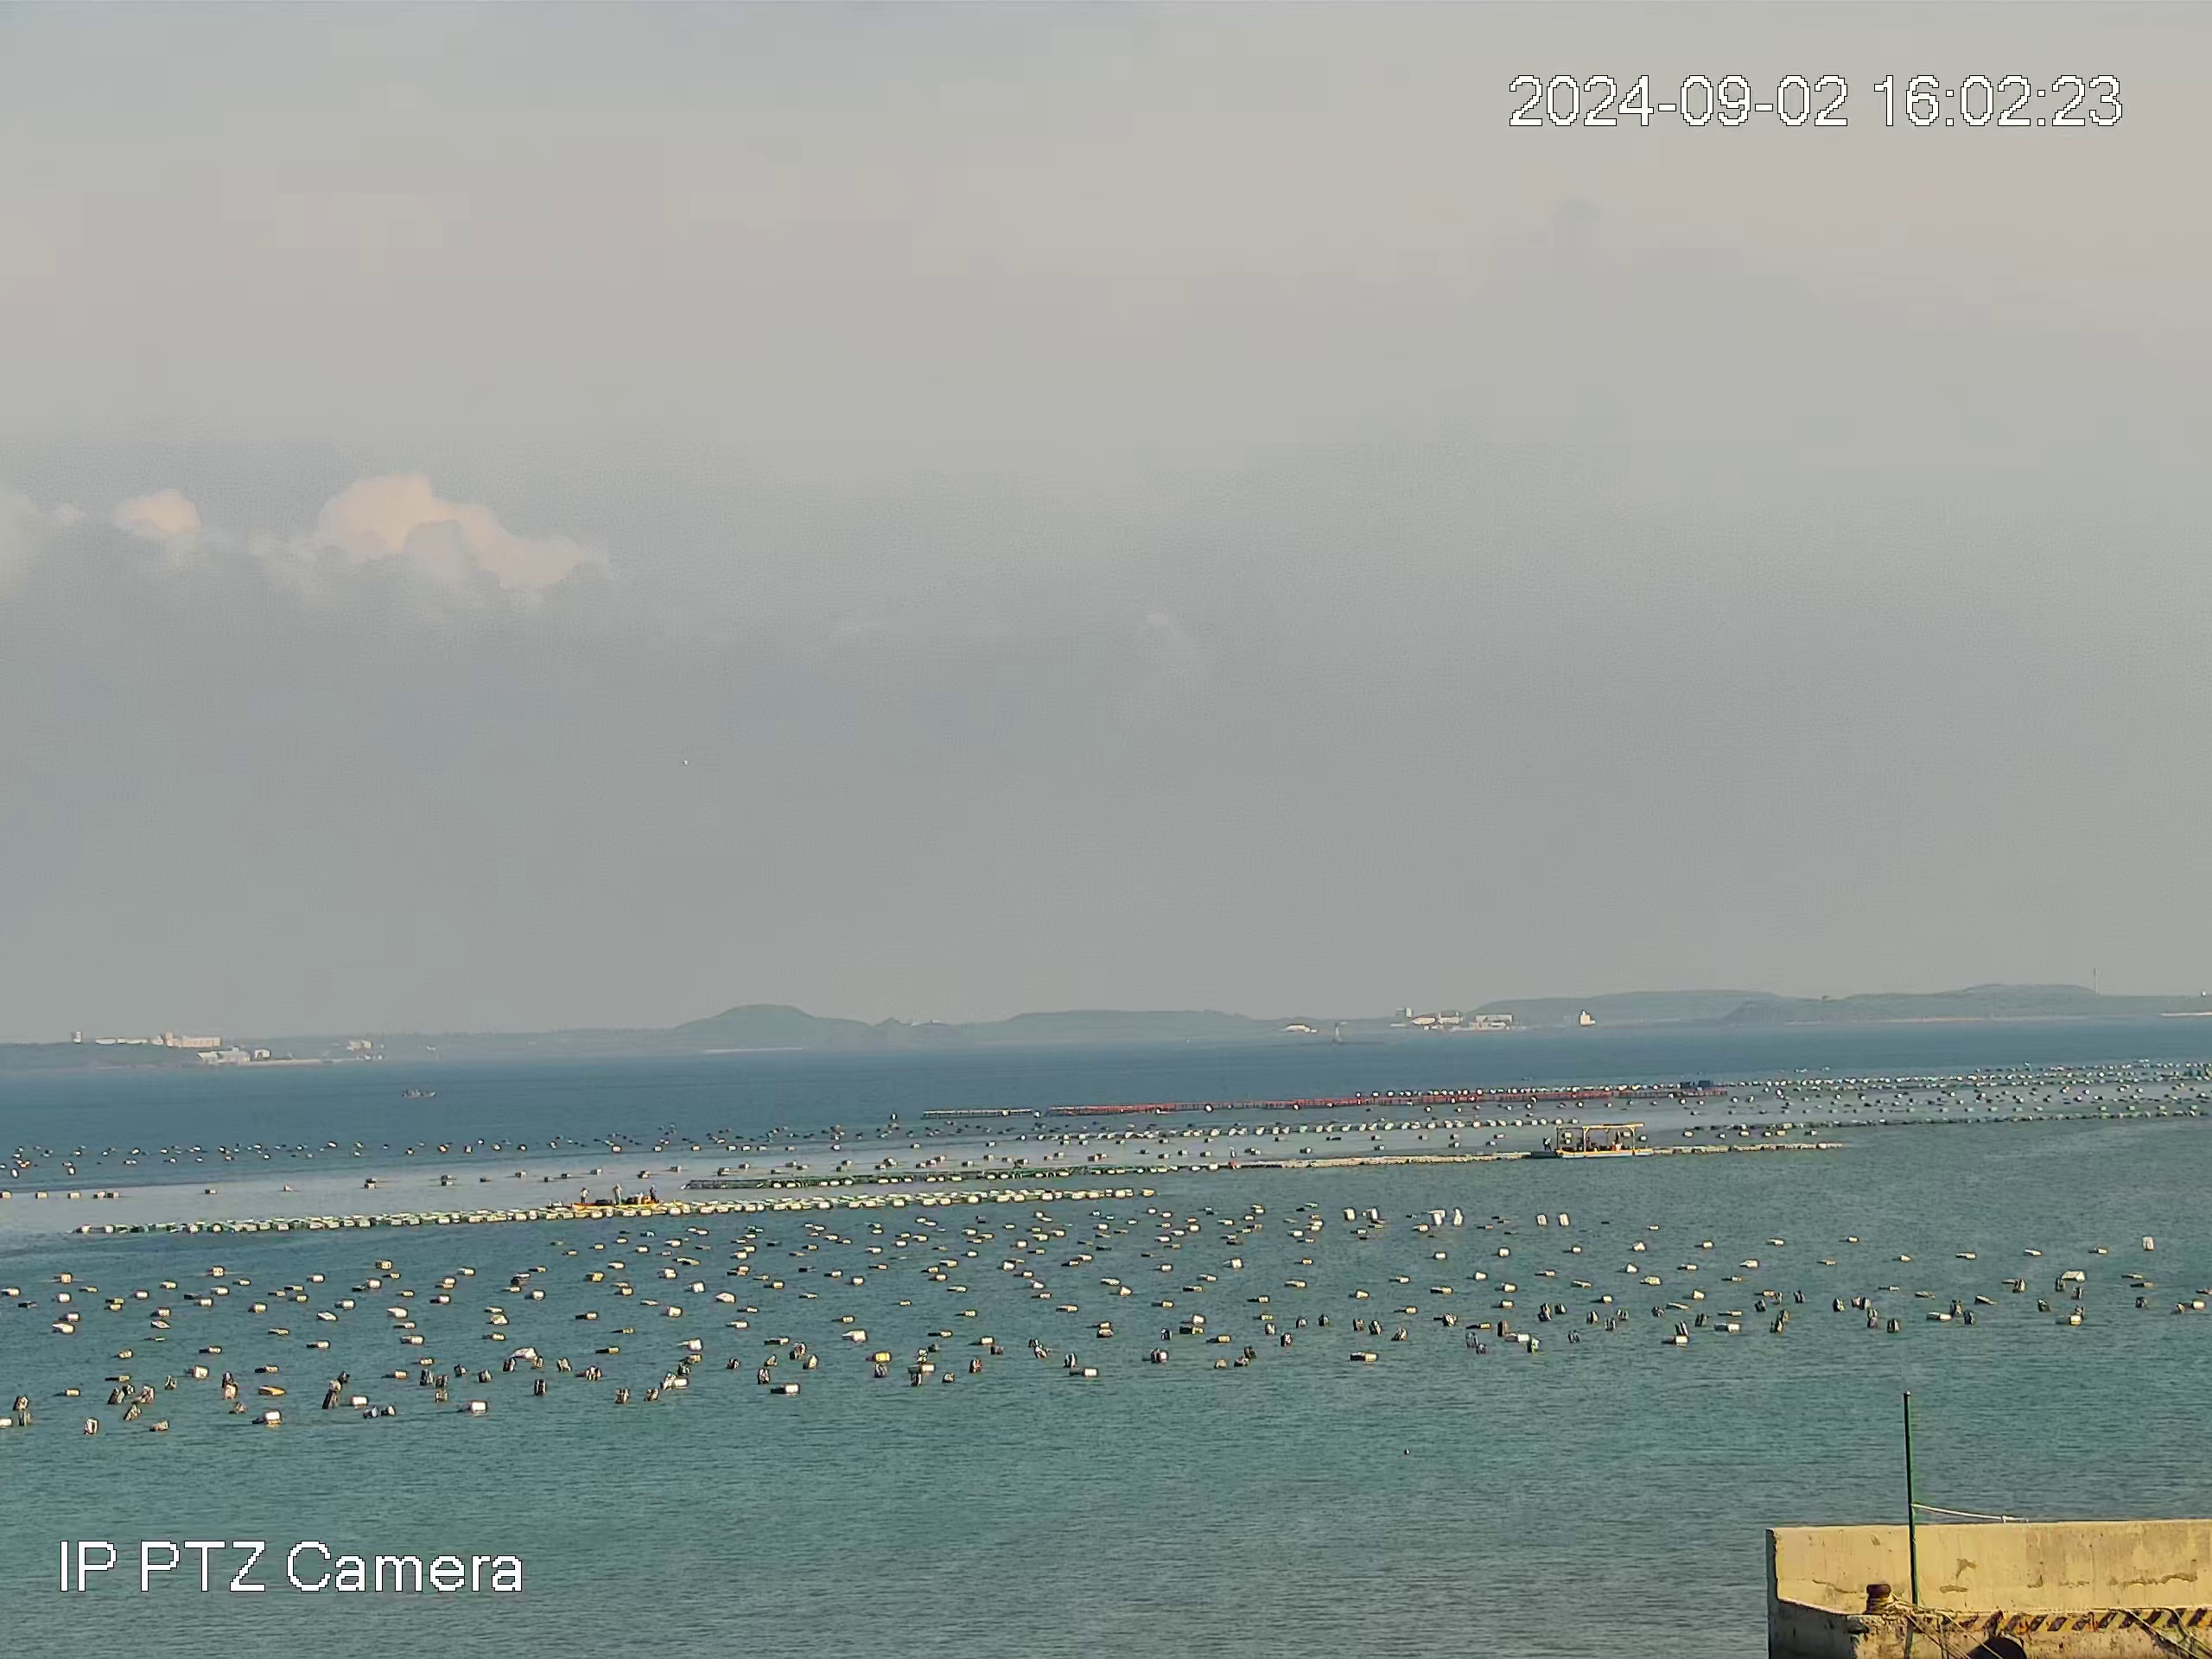boat: (1553, 1122, 1655, 1159), (570, 1182, 662, 1210), (399, 1086, 437, 1101)
